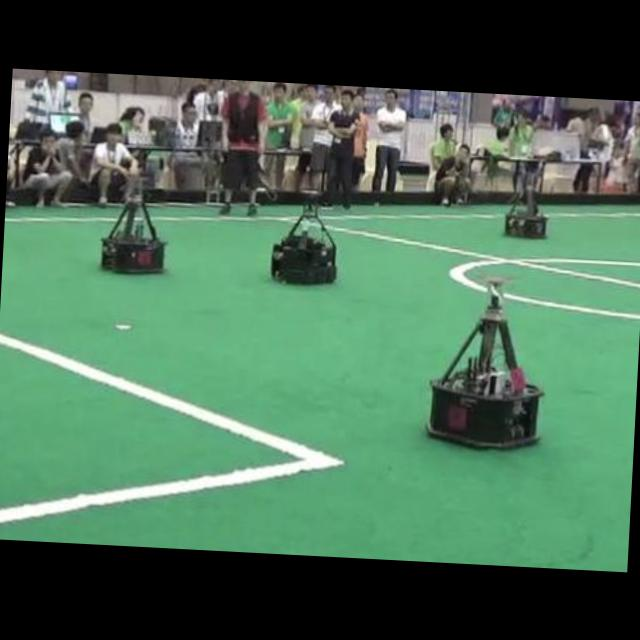robot: (429, 293, 542, 446), (271, 203, 335, 282), (101, 202, 164, 271), (506, 163, 549, 238), (505, 211, 546, 237)
